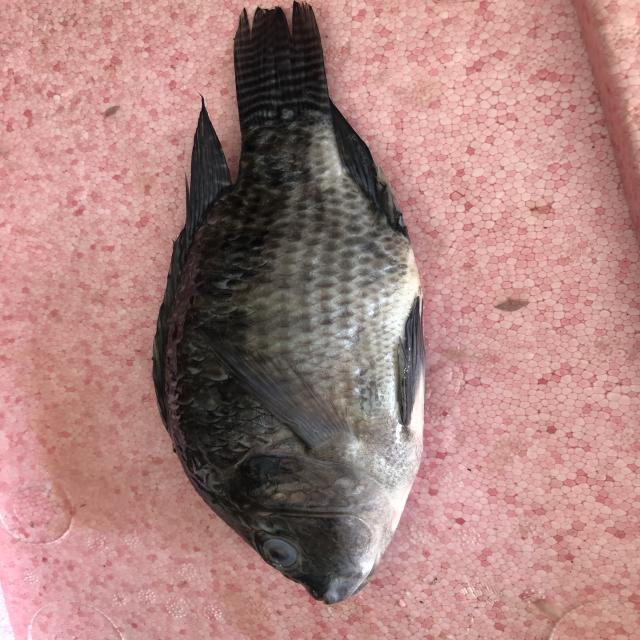Eye -1-: (250, 534, 306, 569)
Skin-5-: (153, 123, 422, 456)
Tilapia-F-6-10-: (128, 0, 436, 609)
